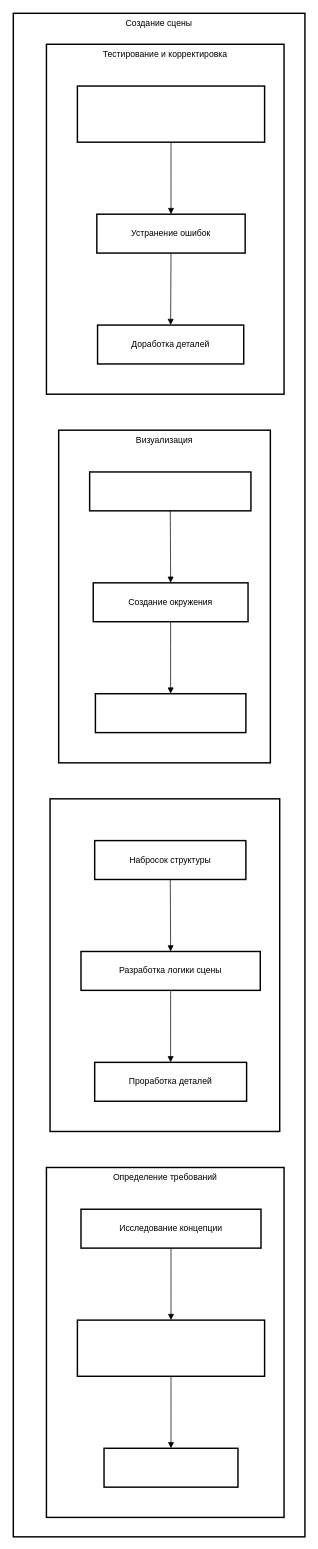
This 318x1549 diagram has some shape labels left out. Here are the shapes that lost their labels. From the top down, the box of each, then its label:
(76, 85, 265, 143): Проверка совместимости элементов
(89, 471, 251, 511): Создание персонажей
(94, 693, 246, 733): Работа с анимацией
(49, 798, 280, 1132): Разработка сценария
(76, 1319, 265, 1377): Определение основных элементов
(103, 1447, 238, 1488): Анализ тематики
